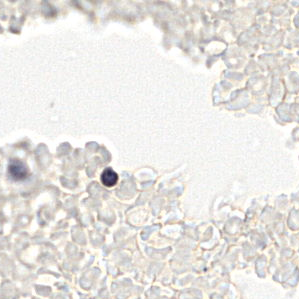Lymphocyte: (101, 166, 119, 187)
